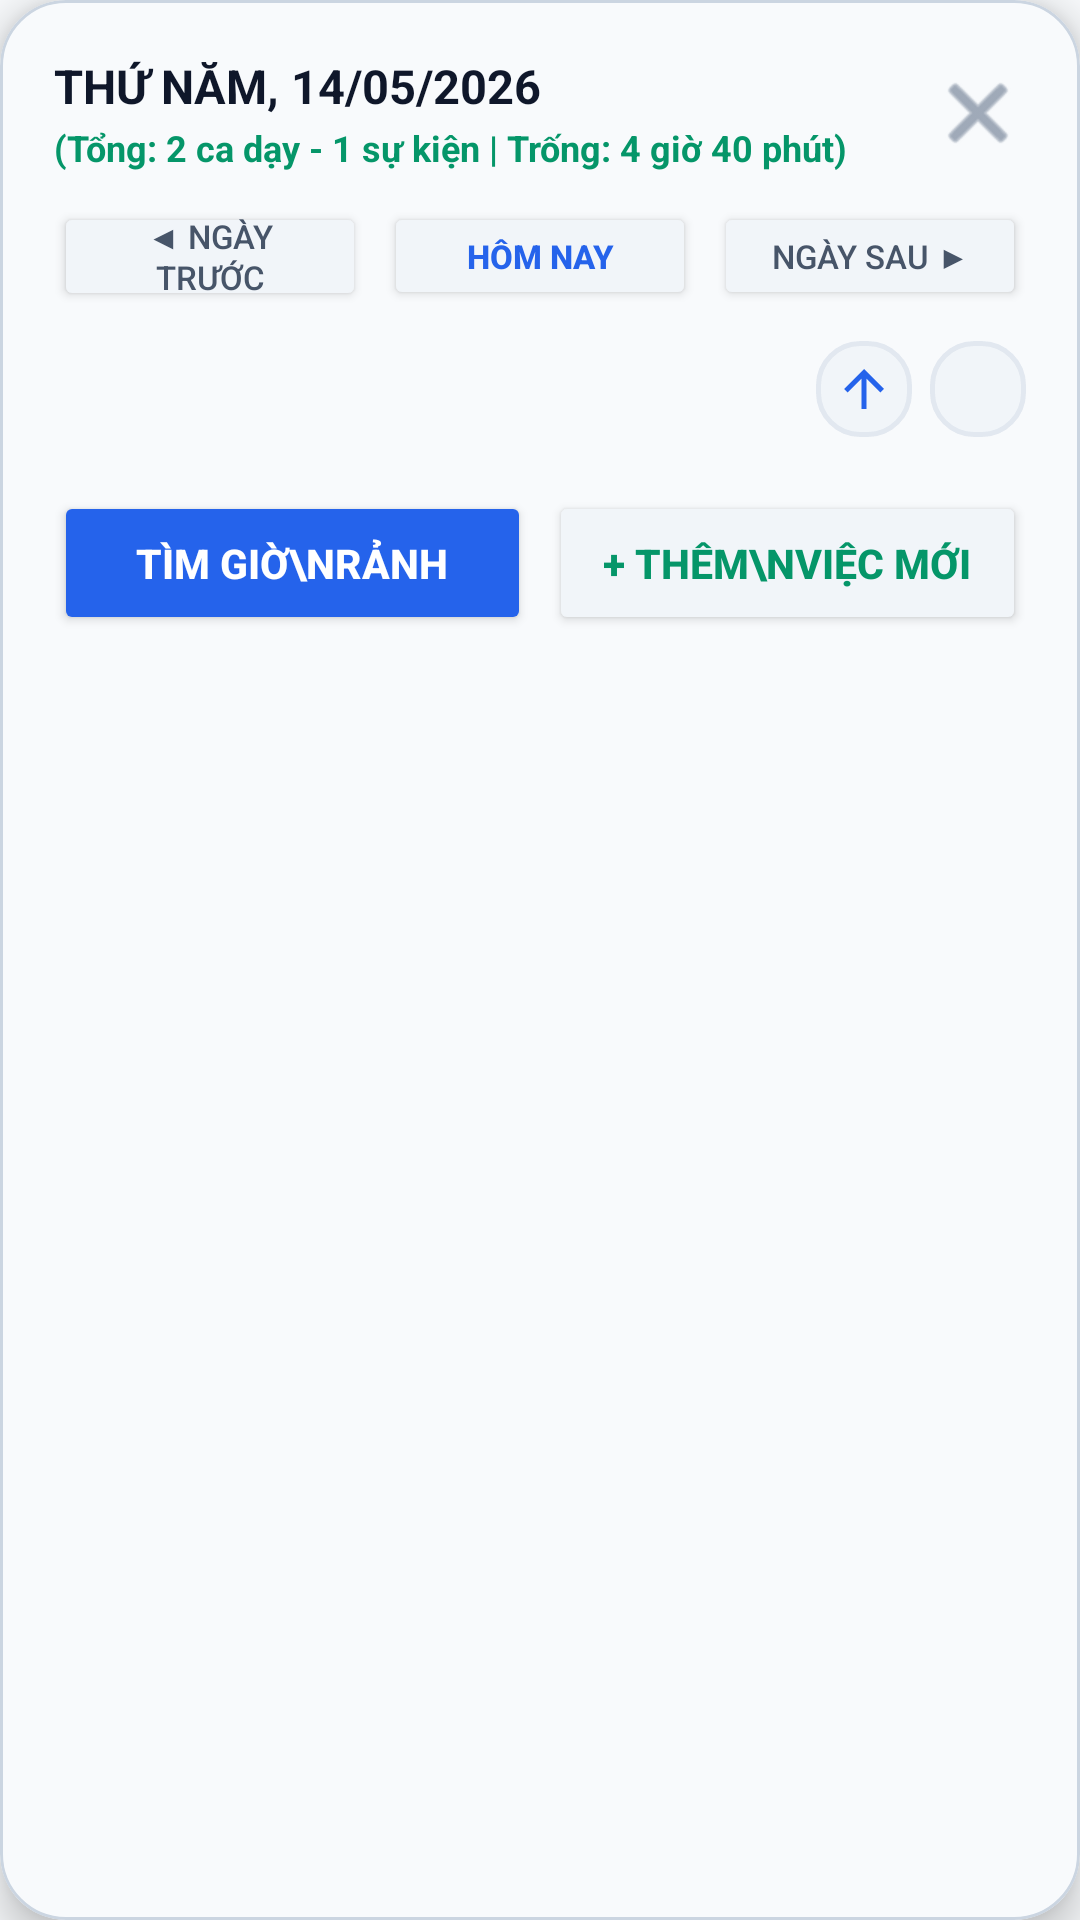

Icons on this 1080×1920 Android screen, each with its box as (x1, y1, x2, y2):
Lên đầu: (844, 369, 884, 409)
Đóng: (948, 83, 1008, 143)
